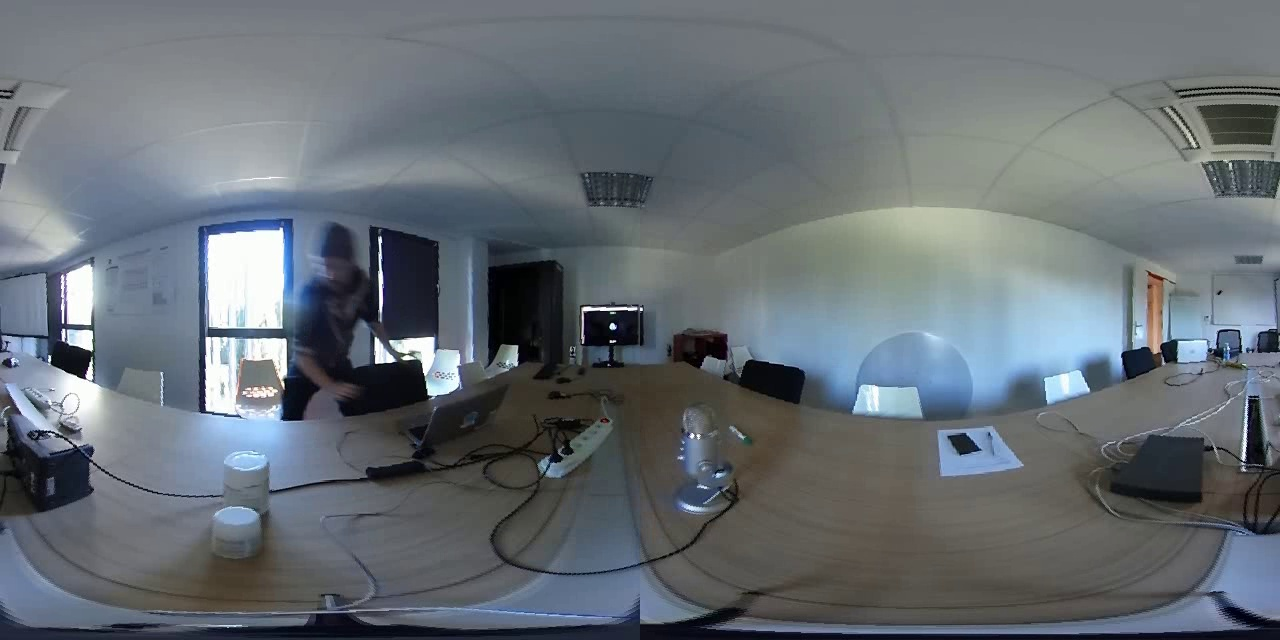person: (277, 222, 401, 404)
